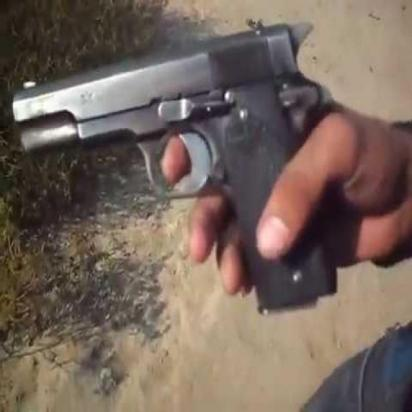Gun: (9, 18, 343, 319)
